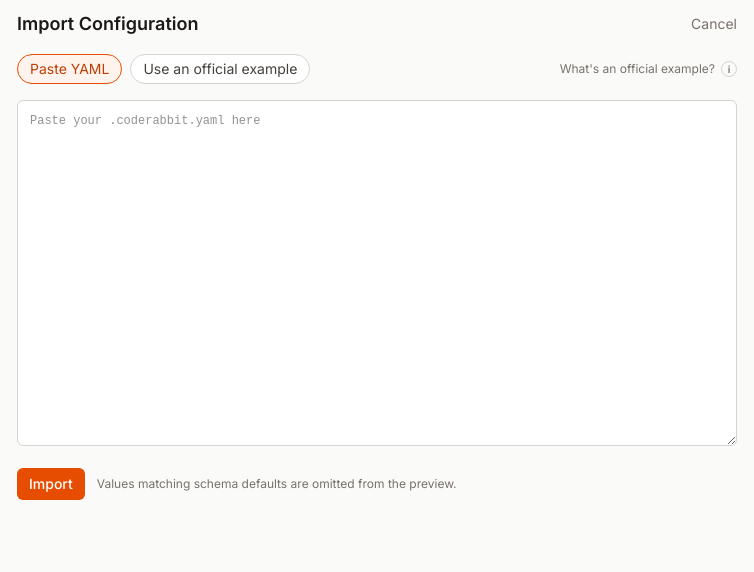
Test: ImportPage › clears previous errors after a subsequent successful import
The image size is (754, 572).
Type "nonexistent_field: true" into the text box with placeholder "Paste your .coderabbit.yaml here".
click(377, 273); type("nonexistent_field: true")  # box [17,100,737,446]
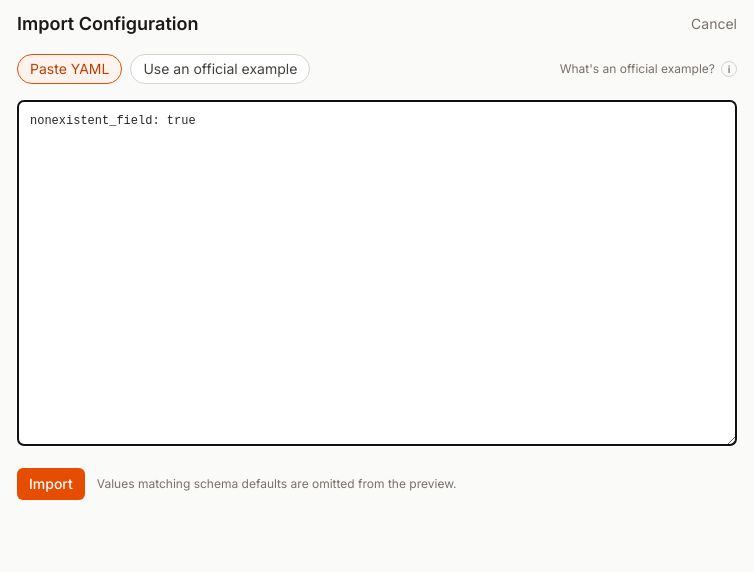
Click the button "Import".
click(51, 484)  # box [17,468,85,500]
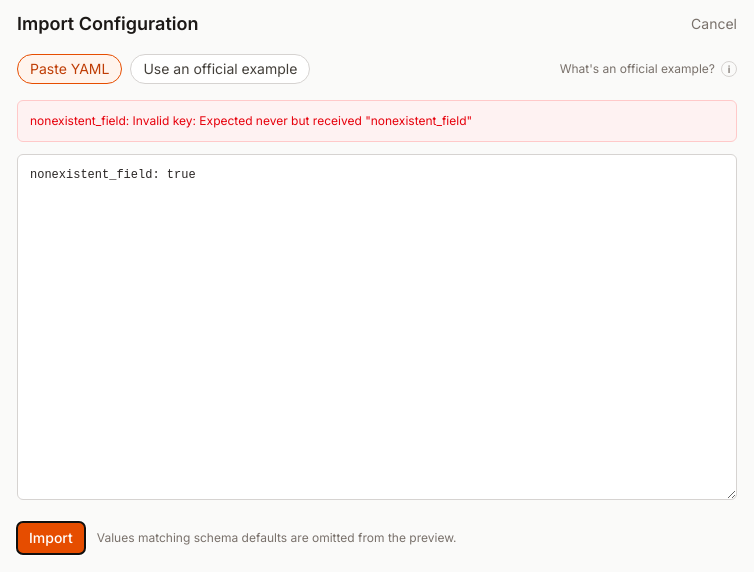
Expected: the list item shows "nonexistent_field", [30,113,472,128]
Replace the text in the text box with placeholder "Paste your .coderabbit.yaml here" with "language: ja-JP" at [377, 327], box [17,154,737,500]
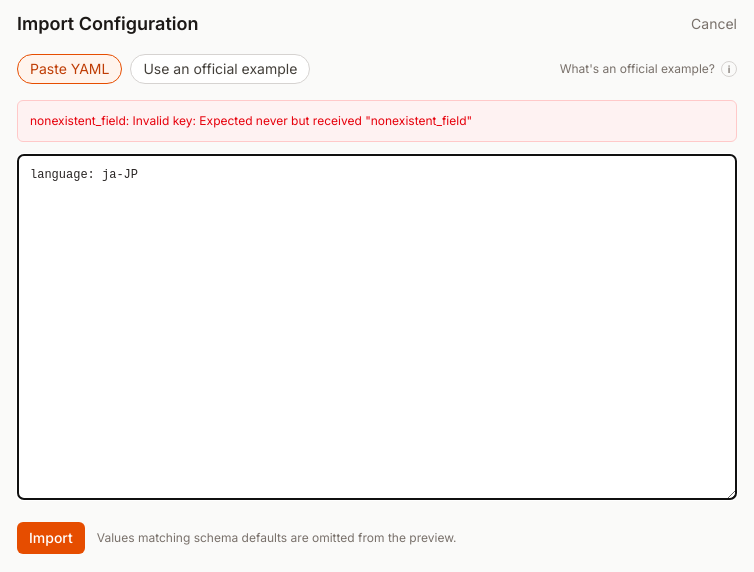
Click the button "Import".
click(51, 538)  # box [17,522,85,554]
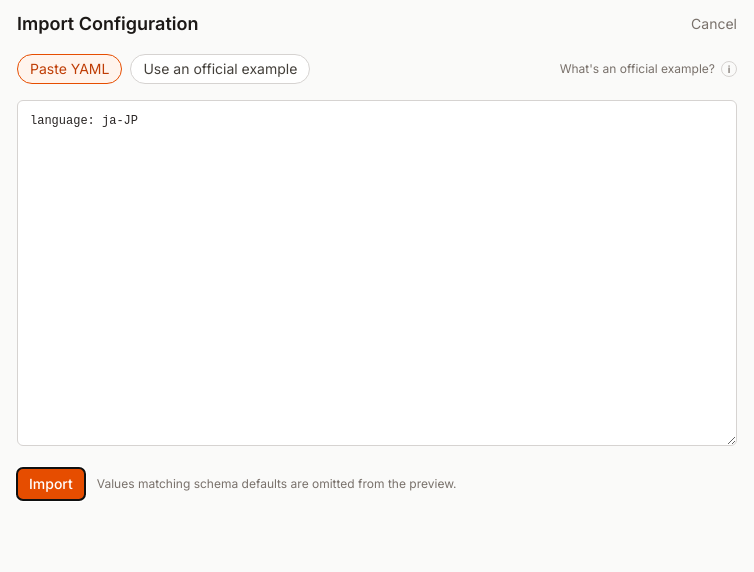
Expected: the list item is gone
